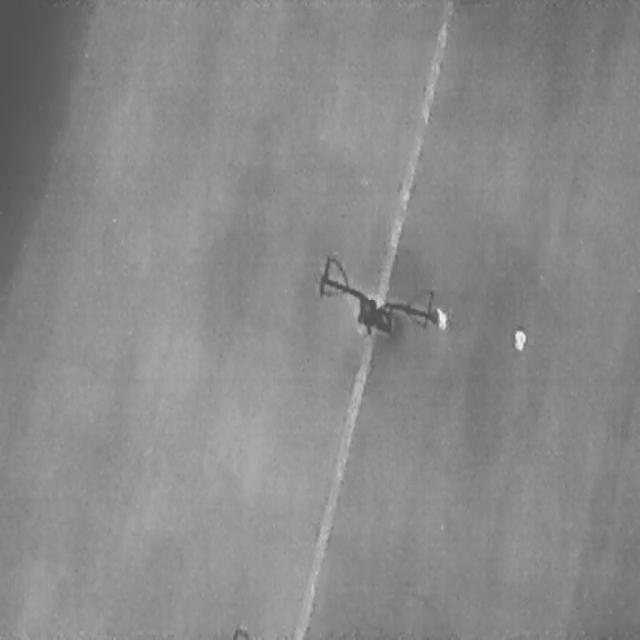Person: (434, 305, 447, 330), (513, 329, 525, 351)
